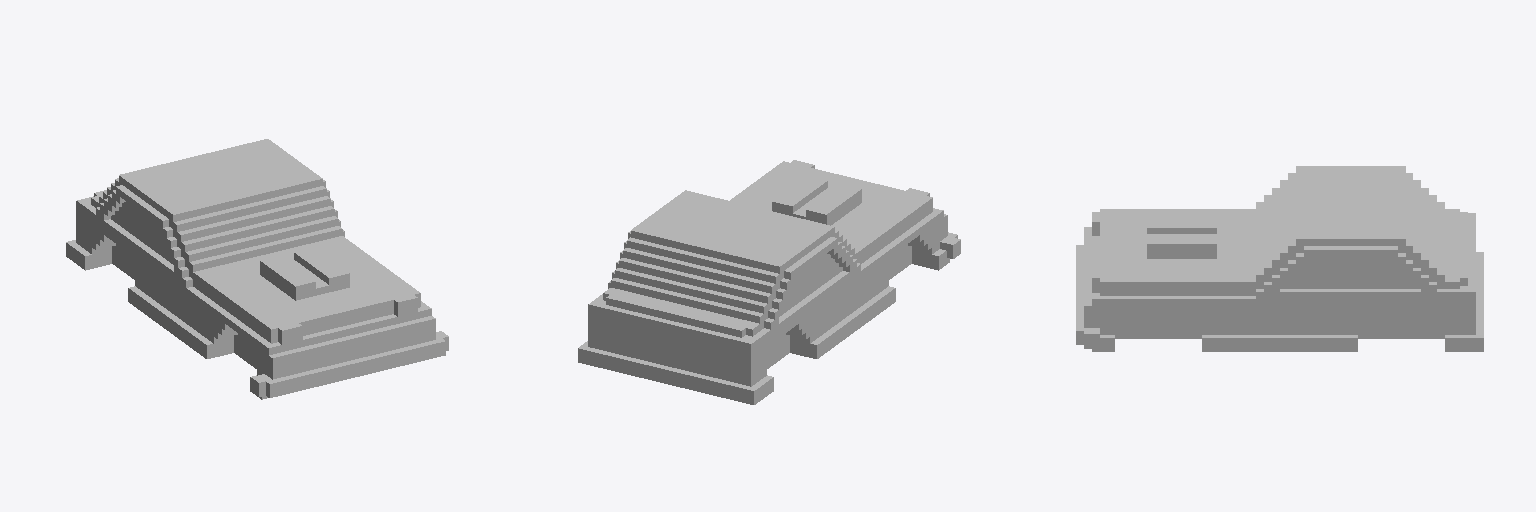
File: Car1.obj
The picture shows the model from 3 angles: view 1: azimuth 30°, elevation 25°; view 2: azimuth 150°, elevation 25°; view 3: azimuth 270°, elevation 25°; orthographic projection.
Parts seen in each view (by area): view 1: object 1; view 2: object 1; view 3: object 1.
Part boxes in pixels (bbox=[...]): object 1: bbox=[66, 139, 448, 399]; object 1: bbox=[578, 160, 960, 404]; object 1: bbox=[1076, 166, 1483, 351].
Size of the model in its own units: 2.8 by 1.5 by 5.2.